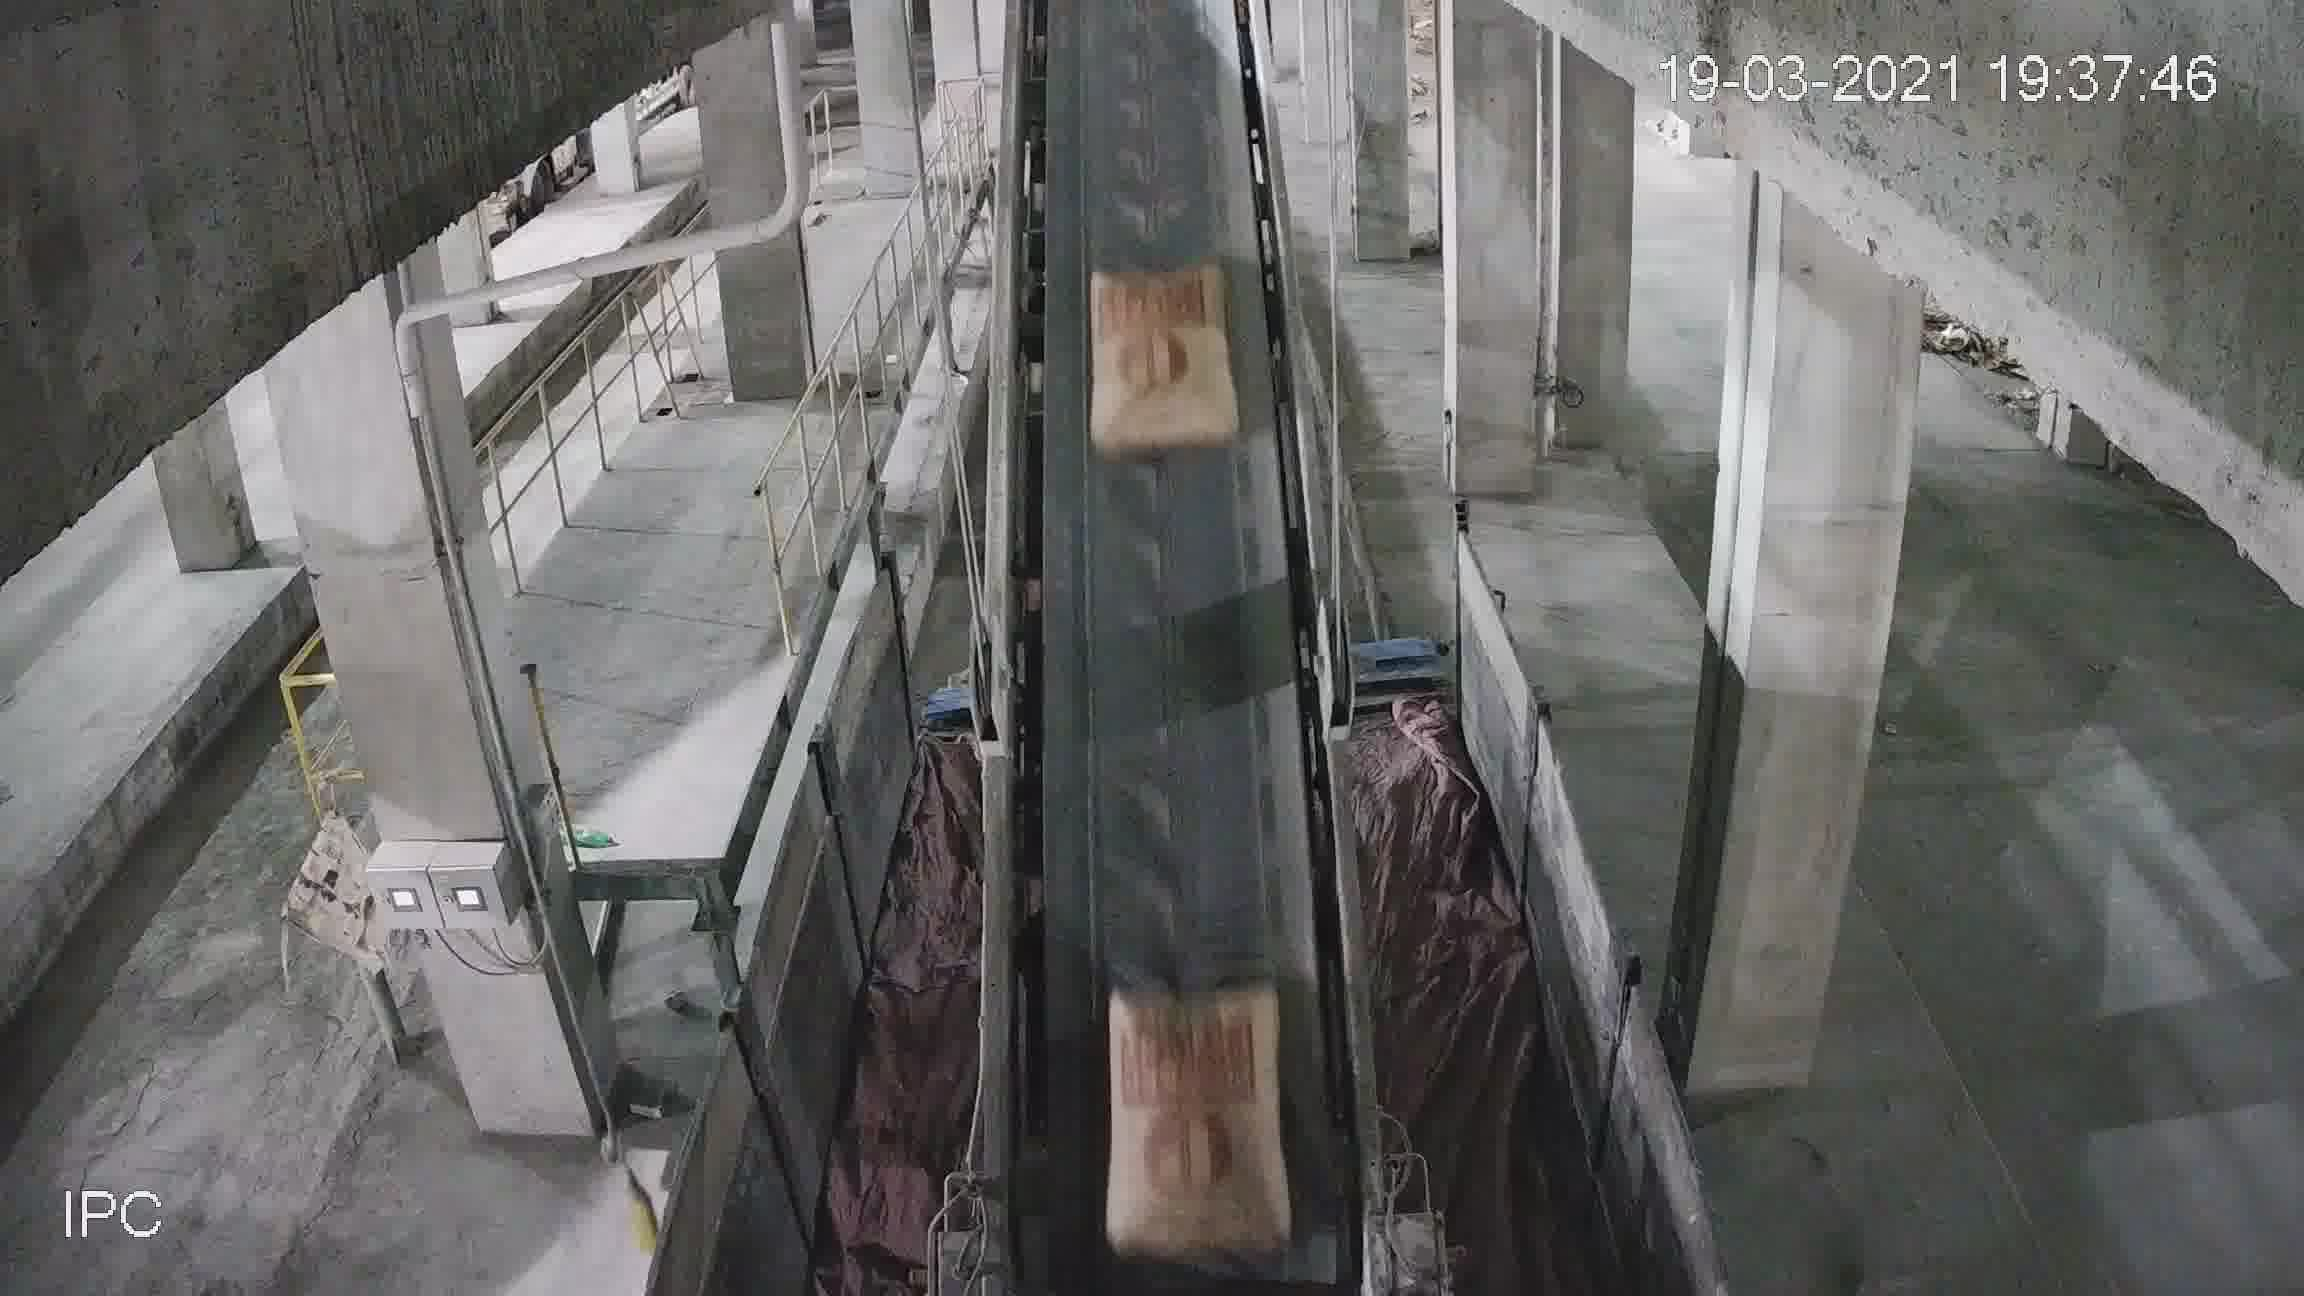bag: (1116, 976, 1282, 1187), (1087, 252, 1233, 449)
belt: (976, 51, 1355, 1166)
